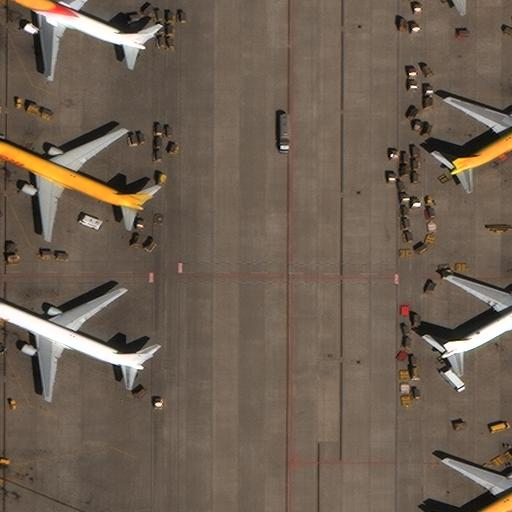Large Civil Transport: (0, 127, 144, 240), (0, 286, 144, 399), (0, 0, 146, 77), (439, 273, 511, 372), (449, 95, 511, 191), (447, 457, 511, 512)
